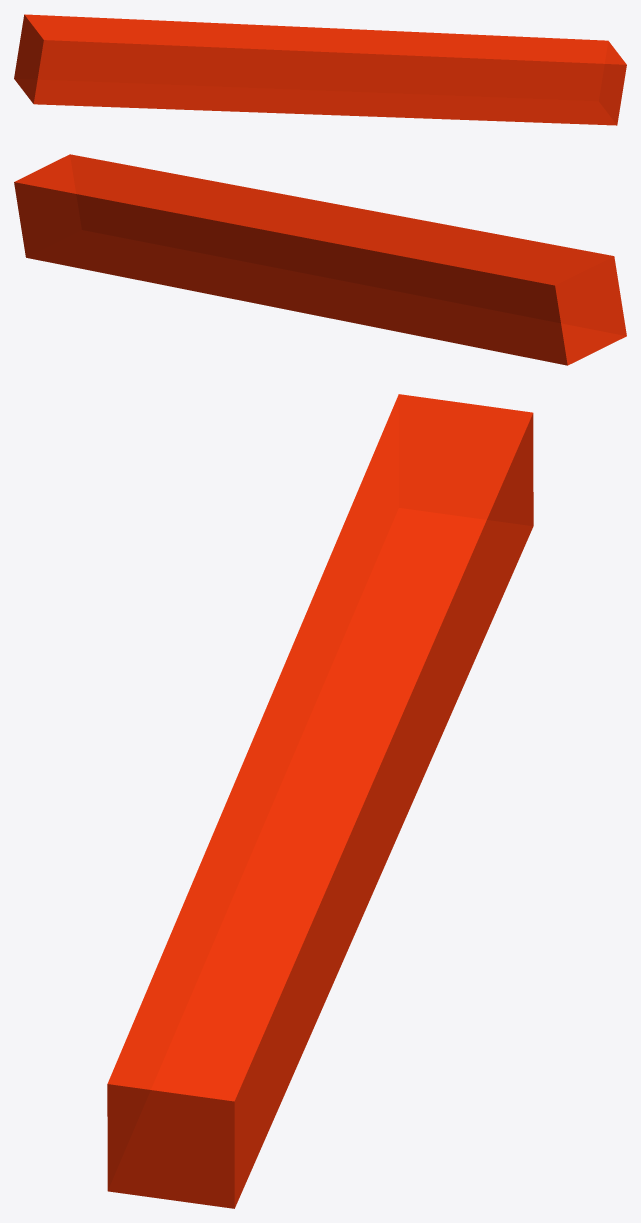
Rendered from Event_421127236_EErechit_1.fbx.
The picture shows the model from 3 angles, top to bottom: view 1: azimuth 30°, elevation 25°; view 2: azimuth 150°, elevation 25°; view 3: azimuth 270°, elevation 25°; orthographic projection. The views are drawn at different scales.
Visible parts, largest first — view 1: Model; view 2: Model; view 3: Model.
Part boxes in pixels (<box>): Model: <box>14,14,626,125</box>; Model: <box>14,154,626,365</box>; Model: <box>107,394,533,1208</box>.
Bounding box in the file's own units: 0.6839 × 0.1918 × 0.2364.
